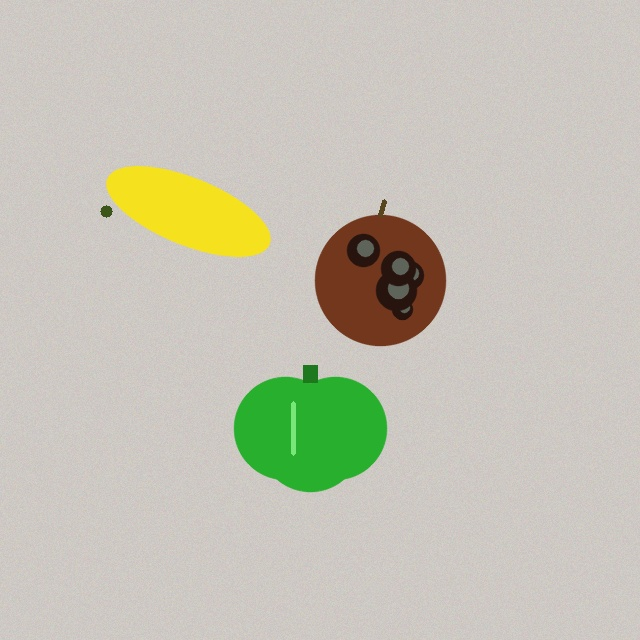Fresh banana: (97, 170, 279, 252)
Fresh bell pepper: (234, 365, 386, 491)
Rotten apple: (315, 201, 445, 345)
